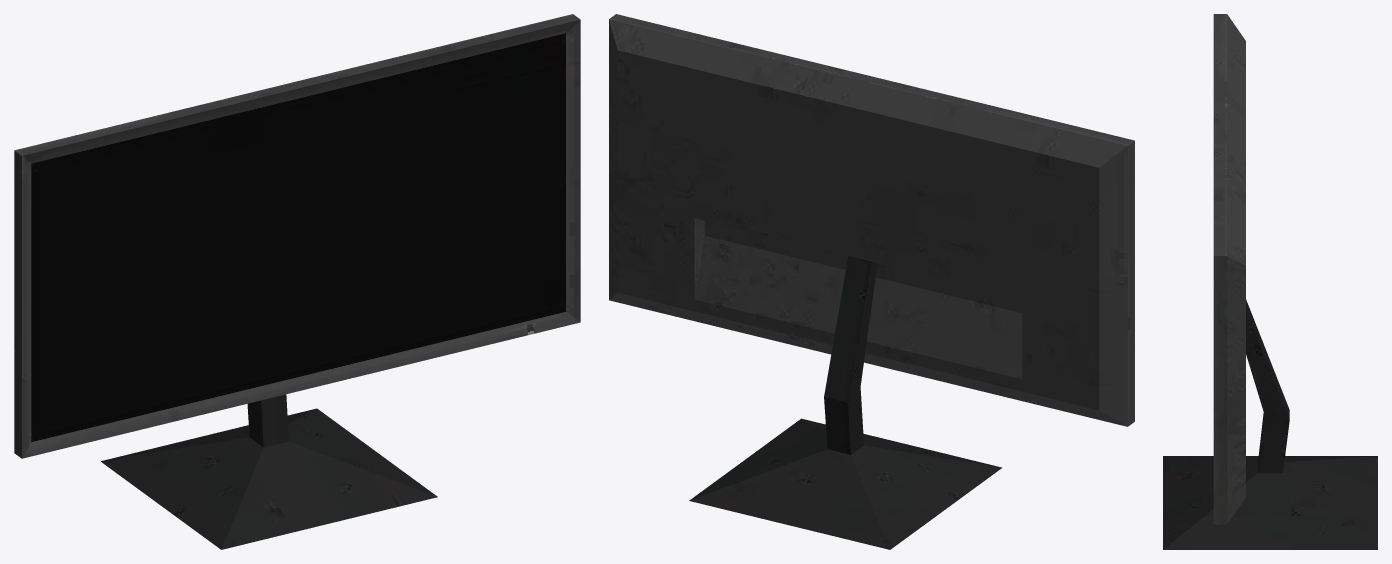
File: monitor.glb
3 renders of one model, left to right at view 1: azimuth 30°, elevation 25°; view 2: azimuth 150°, elevation 25°; view 3: azimuth 270°, elevation 25°, orthographic. The views are drawn at different scales.
Visible parts, largest first — view 1: Object_4; view 2: Object_4; view 3: Object_4.
Boxes of the visible parts, x1=… form: Object_4: x1=14, y1=14, x2=580, y2=549; Object_4: x1=609, y1=14, x2=1134, y2=549; Object_4: x1=1163, y1=14, x2=1377, y2=549.
Bounding box in the file's own units: 0.7194 × 0.5104 × 0.2701.
Materials: 1 (1 with a texture image).
